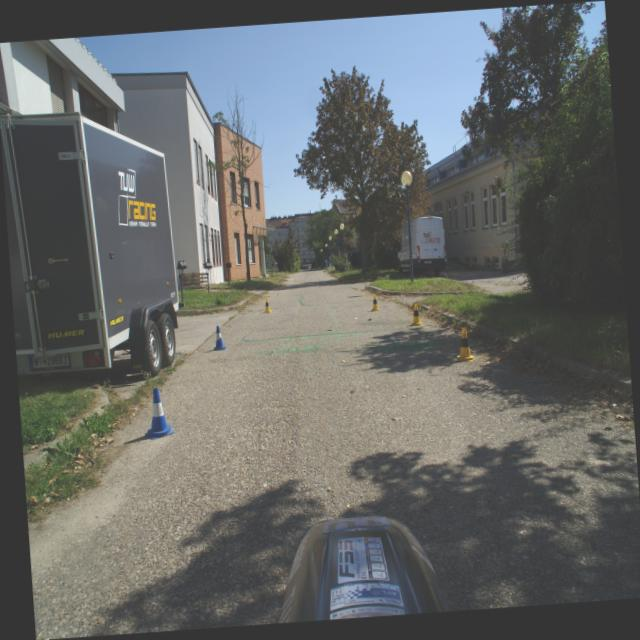blue_cone: (139, 389, 175, 439), (210, 325, 227, 350)
yellow_cone: (452, 327, 474, 362), (408, 304, 422, 326), (368, 294, 381, 310), (262, 297, 272, 313)
